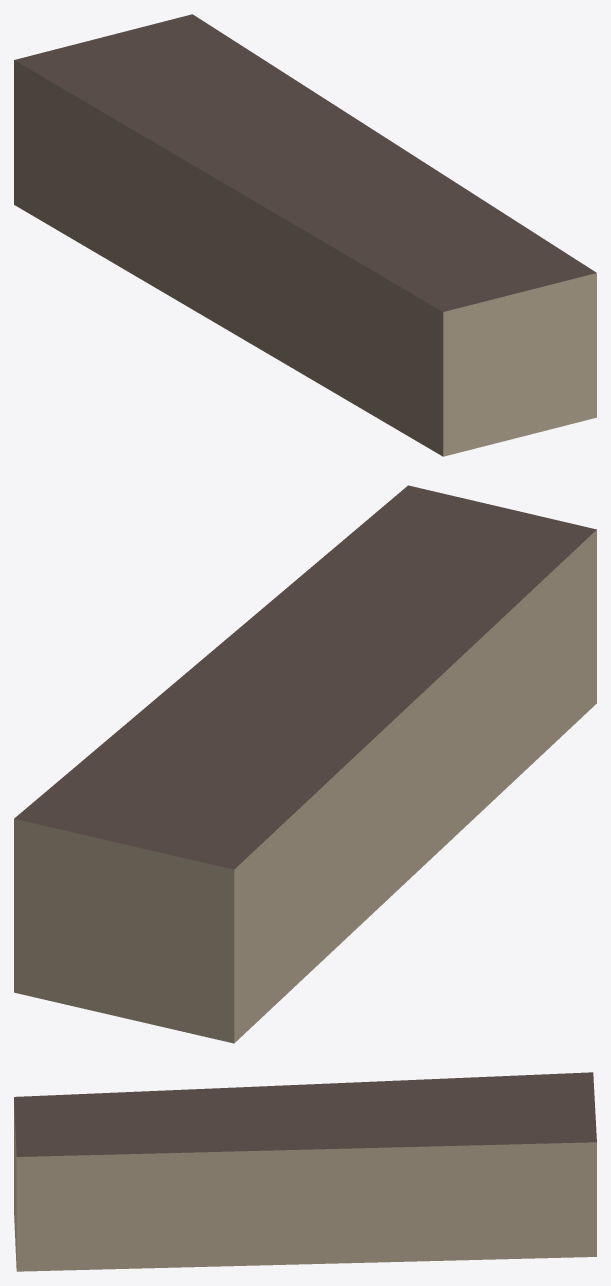
The picture shows the model from 3 angles, top to bottom: view 1: azimuth 30°, elevation 25°; view 2: azimuth 150°, elevation 25°; view 3: azimuth 270°, elevation 25°; orthographic projection. The views are drawn at different scales.
Visible parts, largest first — view 1: HP-w1512911305; view 2: HP-w1512911305; view 3: HP-w1512911305.
Part boxes in pixels (bbox=[...]): HP-w1512911305: bbox=[14, 14, 596, 456]; HP-w1512911305: bbox=[14, 485, 596, 1043]; HP-w1512911305: bbox=[14, 1072, 596, 1271].
Bounding box in the file's own units: 14.26 × 9 × 41.48.
